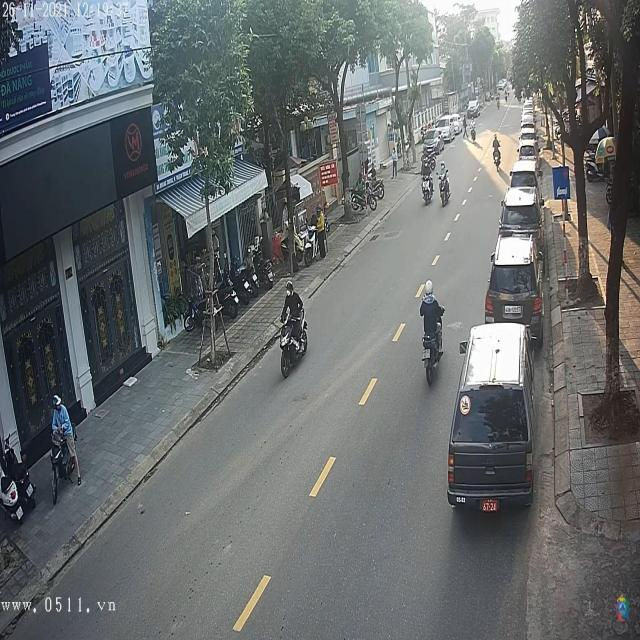car: (449, 323, 534, 510), (501, 184, 540, 233)
motorcycle: (276, 312, 310, 383), (422, 314, 447, 389), (420, 170, 436, 208), (437, 173, 452, 210)
